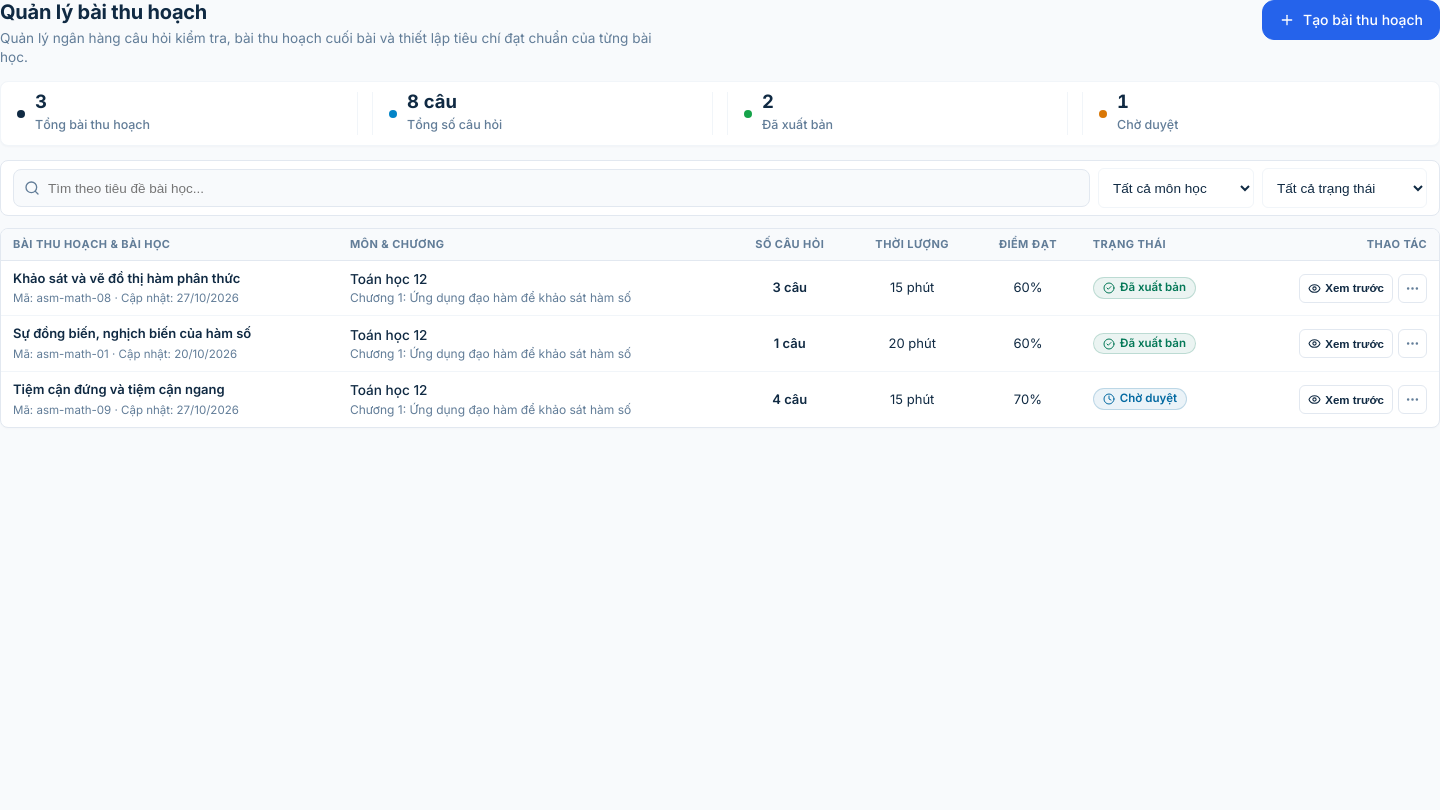
Content Workspace UI & Interaction Suite › 5b. Assessment Preview Modal opens, renders questions, locks scroll, and closes with Esc/Close btn
This screenshot has width=1440, height=810.
Expected: the text "Xem trước" in the row of "Khảo sát và vẽ đồ thị hàm phân thức" is shown, [1325,282,1384,294]
// Click "Xem trước" on first assessment
Step 1. Click the button "Xem trước" in the row of "Khảo sát và vẽ đồ thị hàm phân thức" → (1346, 288), box [1299,274,1393,303]
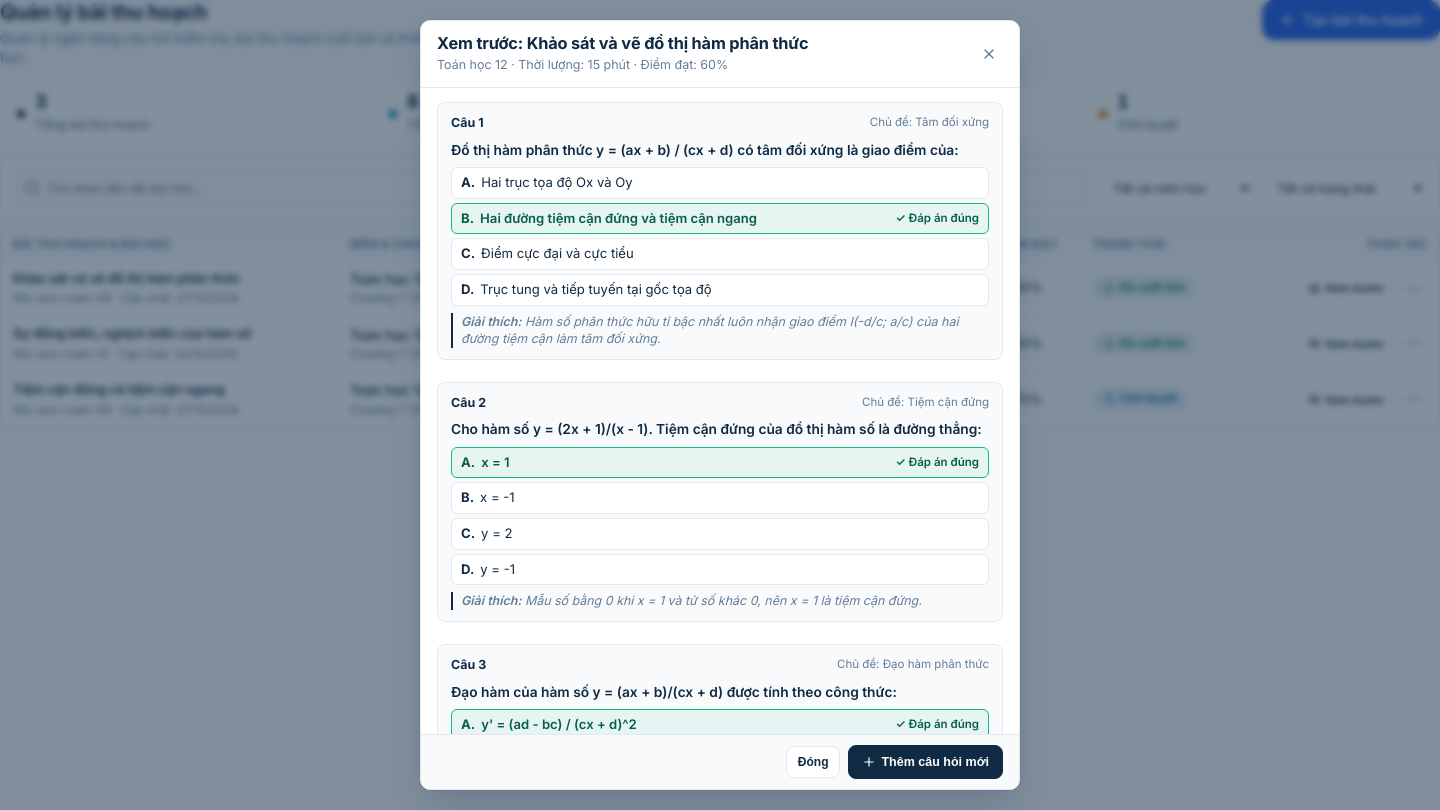
Expected: the dialog is shown, [420,20,1020,790]
Expected: the heading "Xem trước: Khảo sát và vẽ đồ thị hàm phân thức" is shown, [437,33,808,54]
// Test Esc key dismisses the dialog
Step 2. Press Escape
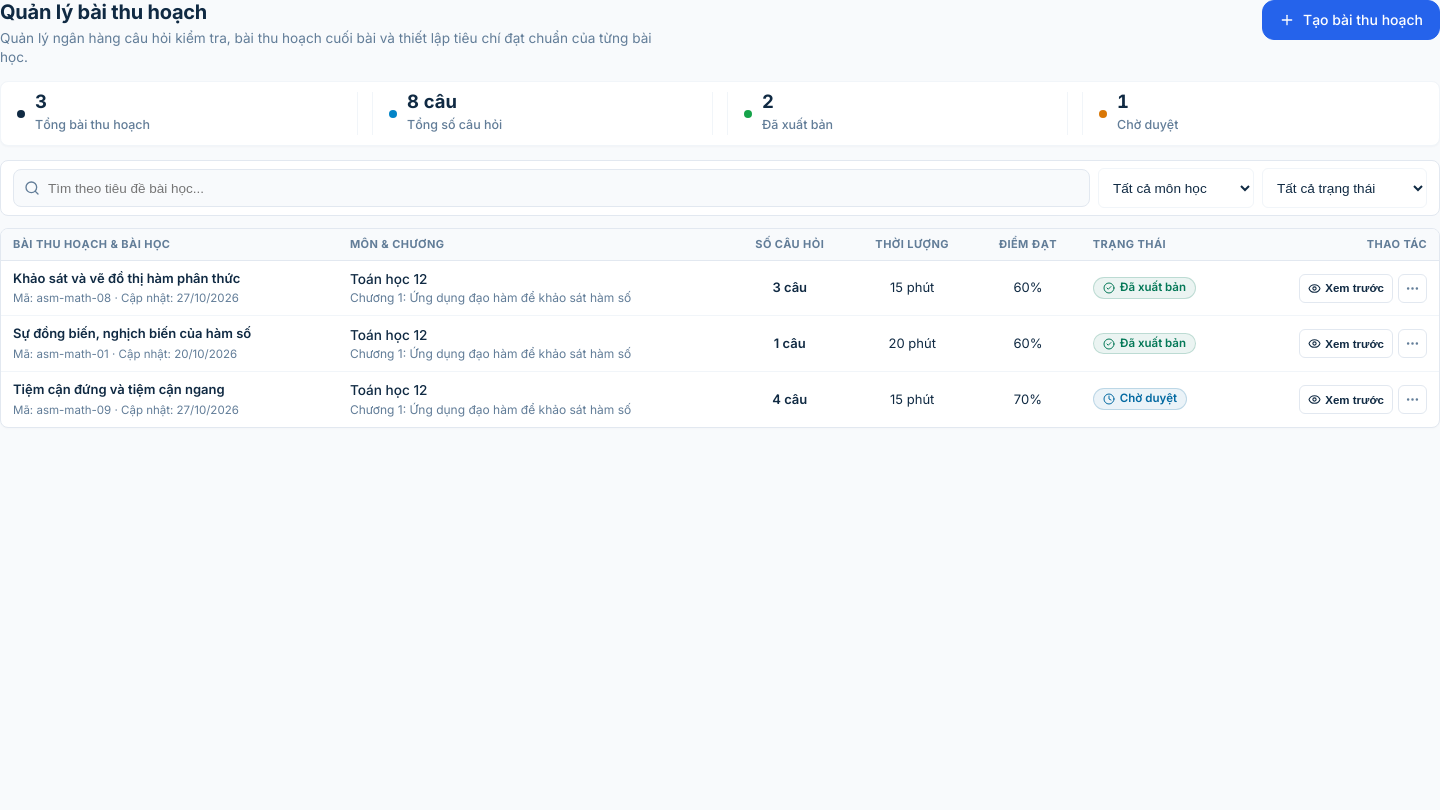
Expected: the dialog is gone
// Reopen modal and test Close button dismisses it
Step 3. Click the button "Xem trước" in the row of "Khảo sát và vẽ đồ thị hàm phân thức" → (1346, 288), box [1299,274,1393,303]
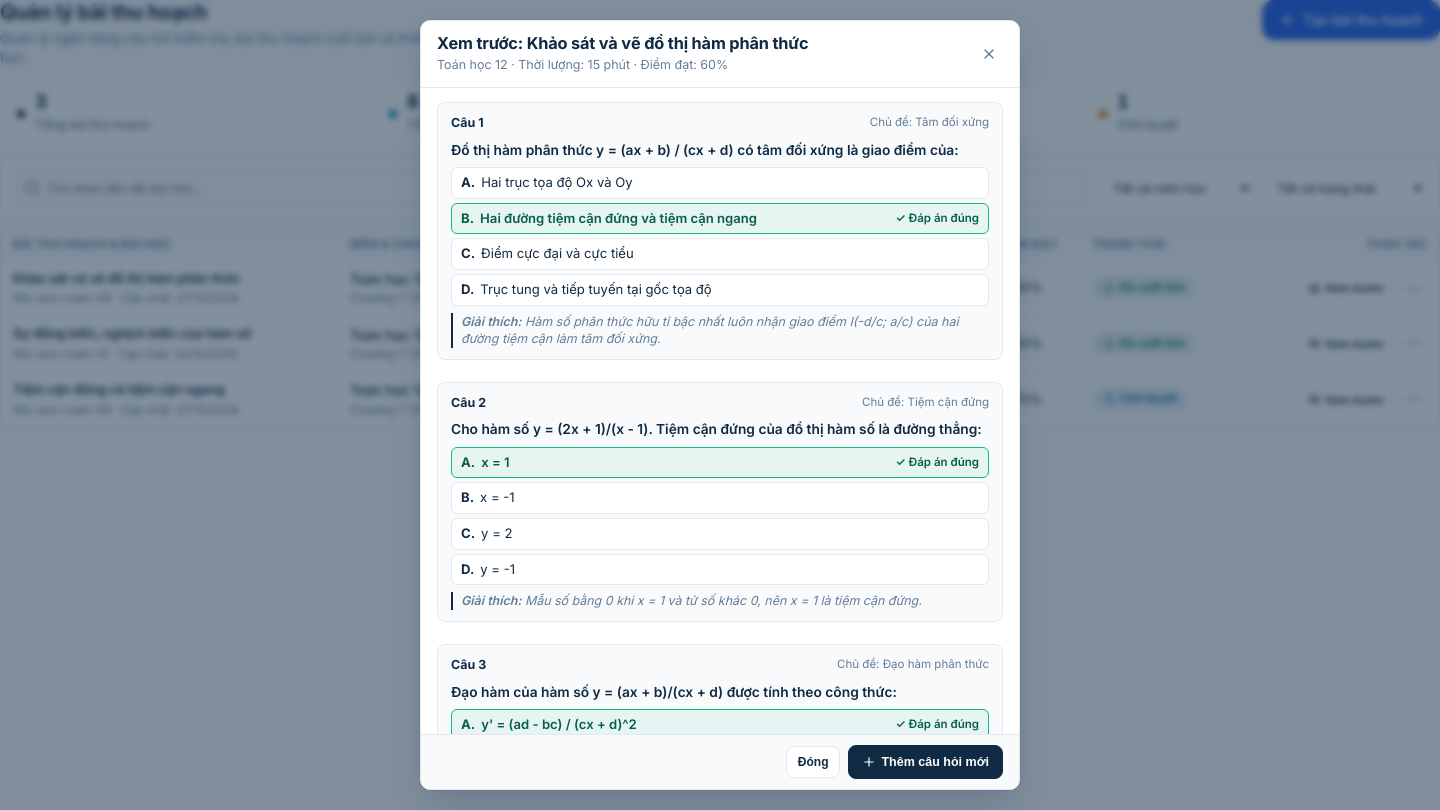
Expected: the dialog is shown, [420,20,1020,790]
Expected: the button named "Đóng" is shown
Step 4. Click the button named "Đóng" → (989, 54), box [975,40,1003,68]
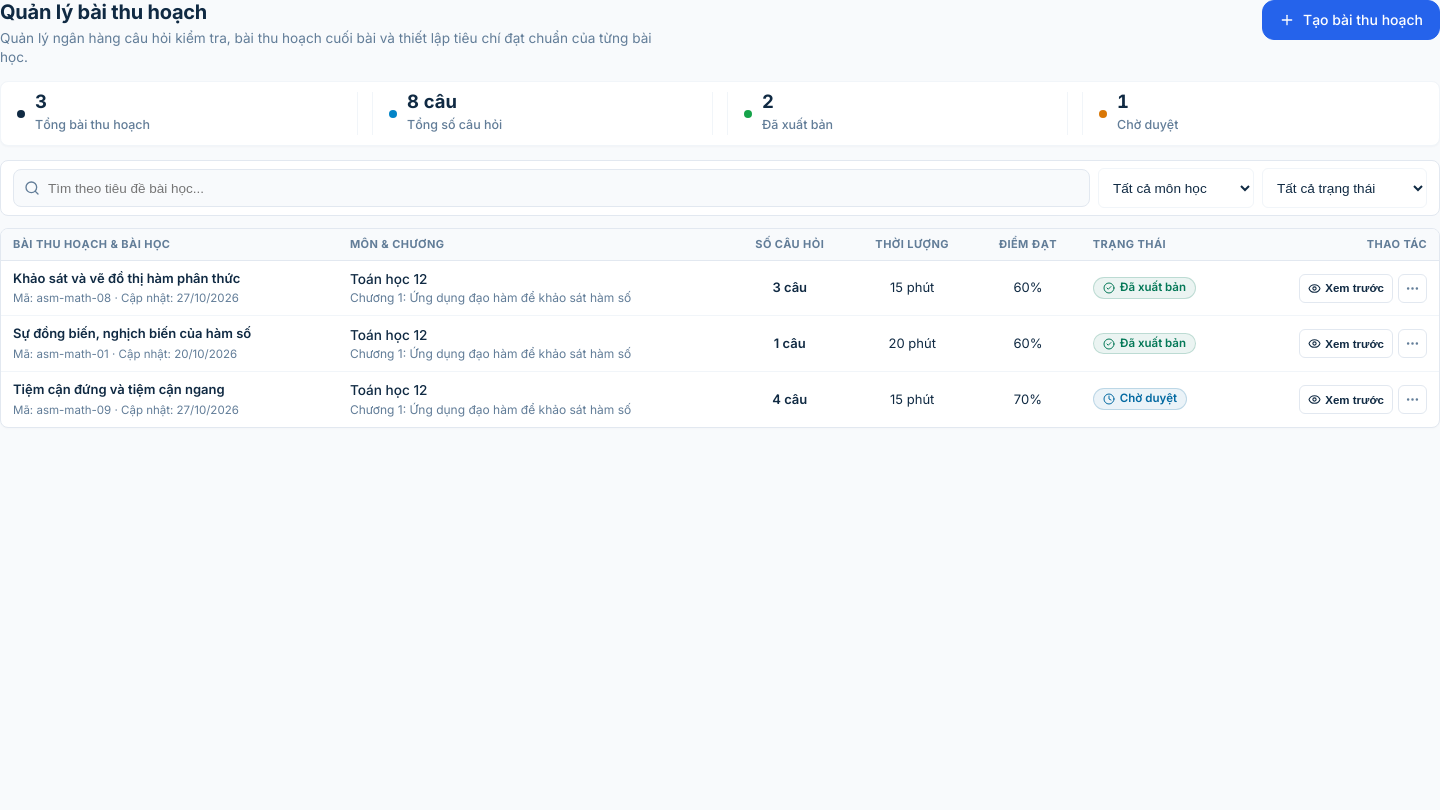
Expected: the dialog is gone
